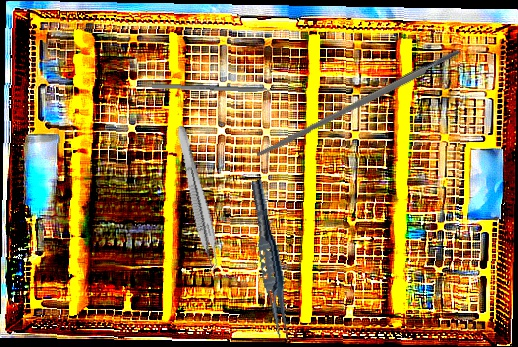Pusher: (151, 83, 297, 94)
Scalpel Handle: (255, 48, 462, 160)
Tissue Forceps: (243, 178, 297, 345), (167, 124, 226, 276)
